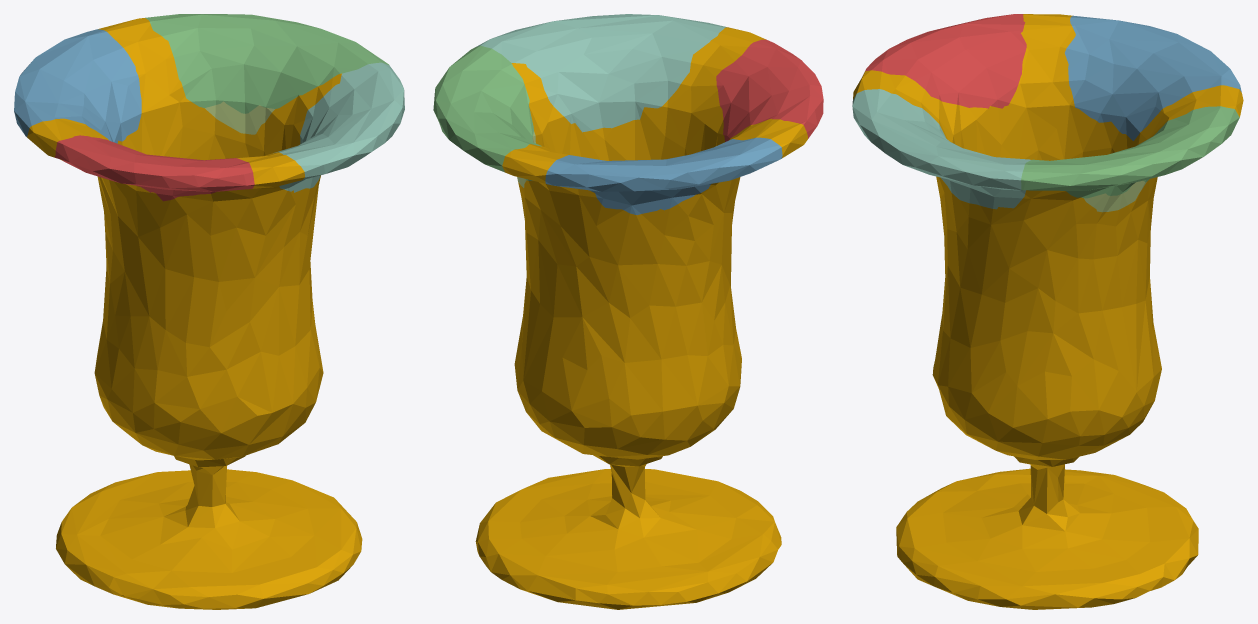
Rendered from mode_10_6pcs.glb.
3 renders of one model, left to right at view 1: azimuth 30°, elevation 25°; view 2: azimuth 150°, elevation 25°; view 3: azimuth 270°, elevation 25°, orthographic.
Visible parts, largest first — view 1: piece_0.obj, piece_3.obj, piece_2.obj, piece_4.obj, piece_1.obj, piece_5.obj; view 2: piece_0.obj, piece_4.obj, piece_2.obj, piece_3.obj, piece_1.obj; view 3: piece_0.obj, piece_2.obj, piece_1.obj, piece_4.obj, piece_3.obj, piece_5.obj.
Part boxes in pixels (box(x1,y1,x2,y2)): piece_0.obj: box(27, 18, 362, 609); piece_3.obj: box(145, 14, 389, 113); piece_2.obj: box(14, 29, 141, 143); piece_4.obj: box(273, 62, 404, 192); piece_1.obj: box(54, 135, 254, 201); piece_5.obj: box(205, 101, 274, 134); piece_0.obj: box(475, 27, 807, 609); piece_4.obj: box(476, 14, 726, 132); piece_2.obj: box(545, 137, 782, 215); piece_3.obj: box(433, 45, 541, 180); piece_1.obj: box(716, 39, 823, 141); piece_0.obj: box(853, 14, 1243, 609); piece_2.obj: box(1064, 15, 1241, 140); piece_1.obj: box(865, 14, 1026, 108); piece_4.obj: box(852, 89, 1030, 209); piece_3.obj: box(1021, 106, 1239, 198); piece_5.obj: box(1084, 180, 1146, 212).
Size of the model in its own units: 0.7742 by 1 by 0.7773.
